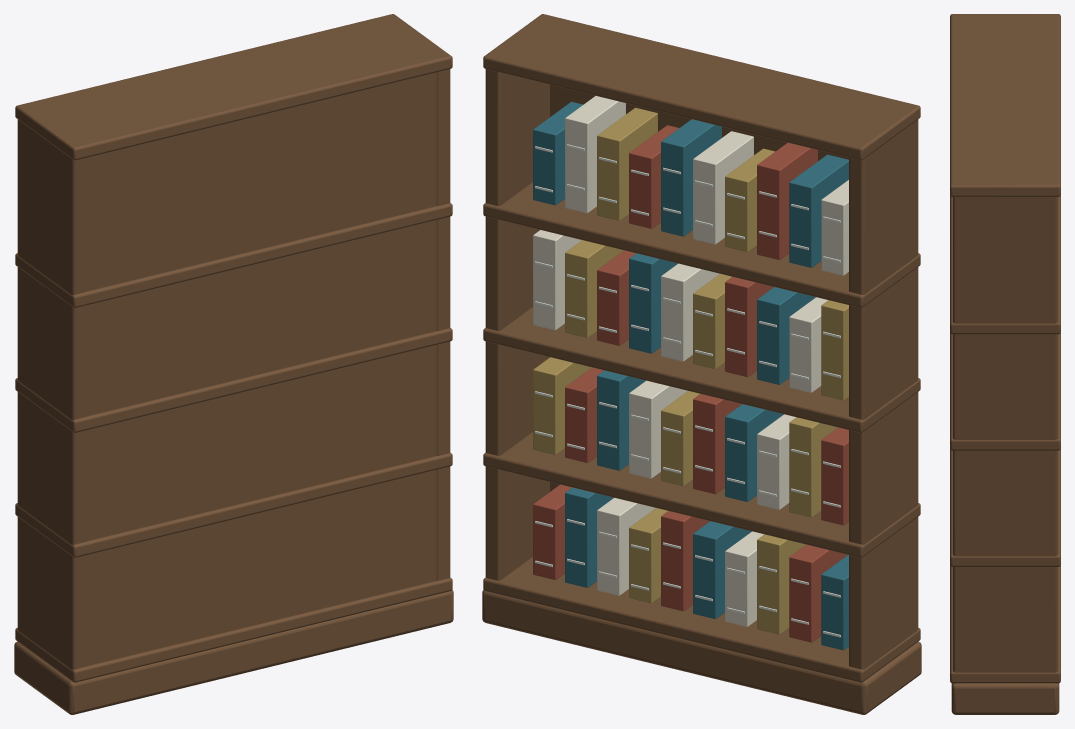
Rendered from resident_bookcase.glb.
3 views of the same model, side by side, from view 1: azimuth 30°, elevation 25°; view 2: azimuth 150°, elevation 25°; view 3: azimuth 270°, elevation 25° (orthographic). The views are drawn at different scales.
Parts seen in each view (by area): view 1: resident_bookcase_render_mesh; view 2: resident_bookcase_render_mesh; view 3: resident_bookcase_render_mesh.
Boxes of the visible parts, x1,y1,x2,y2 form: resident_bookcase_render_mesh: (14,14,453,714); resident_bookcase_render_mesh: (482,14,921,714); resident_bookcase_render_mesh: (950,14,1060,714).
Size of the model in its own units: 1.42 by 2 by 0.38.
